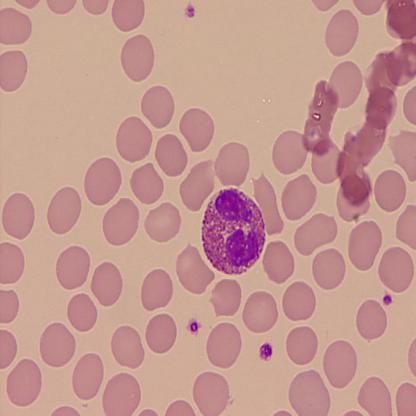Eosinophil: (198, 183, 270, 276)
